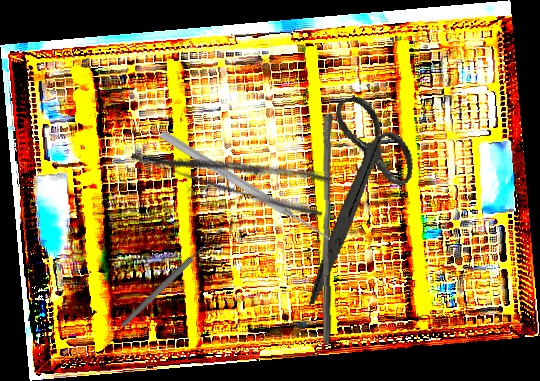Dressing Forceps: (129, 117, 334, 222)
Iris Scissors: (264, 87, 440, 306)
Pusher: (157, 128, 334, 245), (314, 113, 341, 345)
Surgical Spoon: (118, 226, 226, 330)
